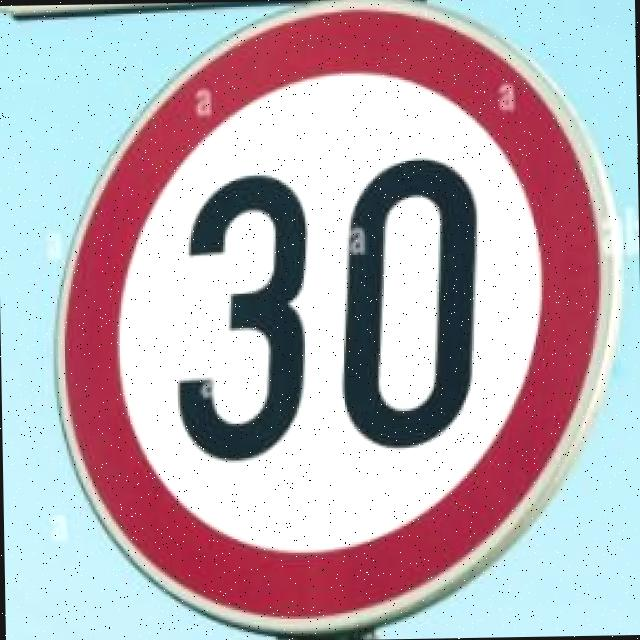Ograniczenie predkosci do 30: (59, 3, 604, 615)
